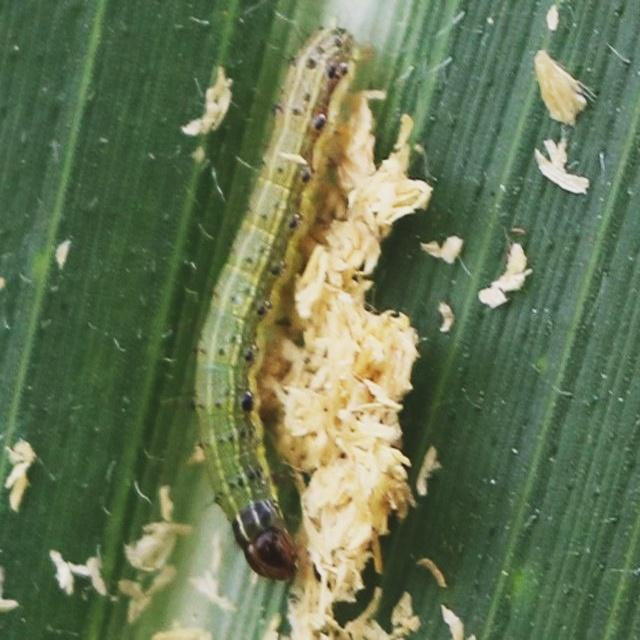gusano_cogollero: (188, 21, 360, 582)
